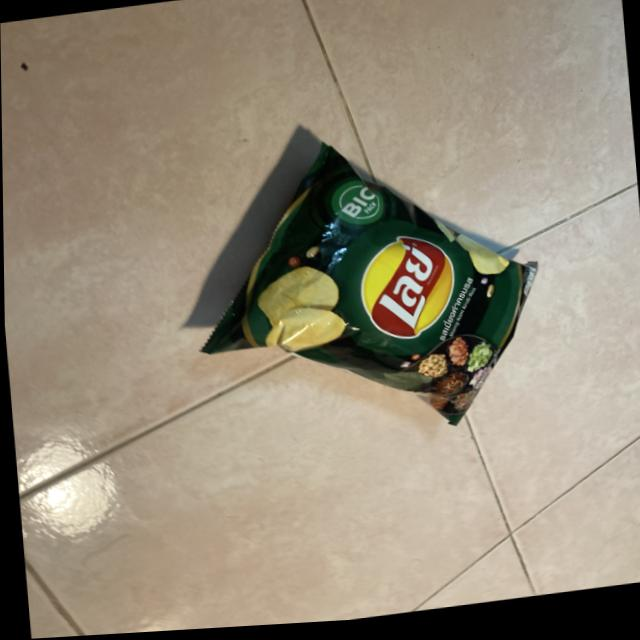Laygreen: (183, 108, 575, 460)
